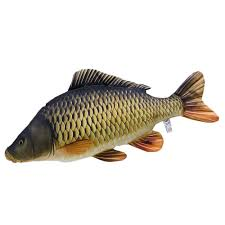carp: (4, 68, 220, 164)
